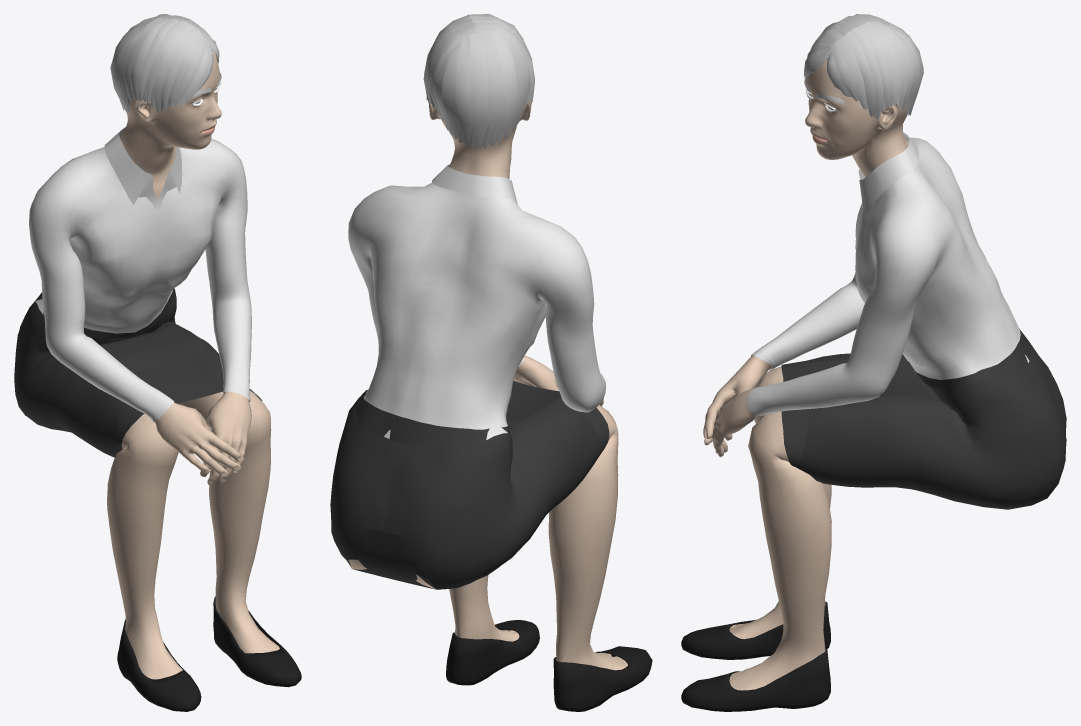
File: JackieLM.fbx
3 renders of one model, left to right at view 1: azimuth 30°, elevation 25°; view 2: azimuth 150°, elevation 25°; view 3: azimuth 270°, elevation 25°, orthographic. The views are drawn at different scales.
Visible parts, largest first — view 1: JackieLMOne; view 2: JackieLMOne; view 3: JackieLMOne.
Boxes of the visible parts, x1,y1,x2,y2 form: JackieLMOne: (14, 14, 301, 711); JackieLMOne: (330, 14, 652, 711); JackieLMOne: (681, 14, 1066, 711).
Size of the model in its own units: 0.4494 by 1.26 by 0.6661.
